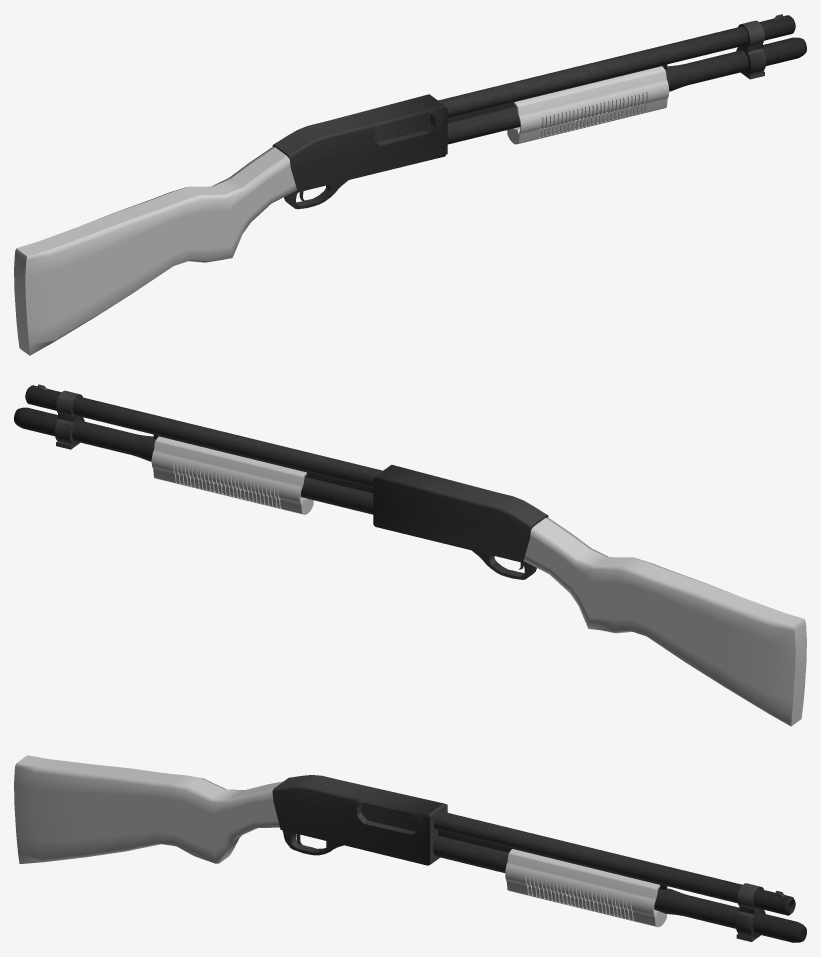
File: M870LightWood.fbx
3 renders of one model, top to bottom at view 1: azimuth 30°, elevation 25°; view 2: azimuth 150°, elevation 25°; view 3: azimuth 330°, elevation 25°, orthographic.
Parts seen in each view (by area): view 1: polySurface27; view 2: polySurface27; view 3: polySurface27.
Part boxes in pixels (x1=…): polySurface27: x1=14, y1=14, x2=806, y2=355; polySurface27: x1=14, y1=384, x2=806, y2=726; polySurface27: x1=14, y1=755, x2=806, y2=942.
Bounding box in the file's own units: 8.45 × 1.58 × 0.3277.
